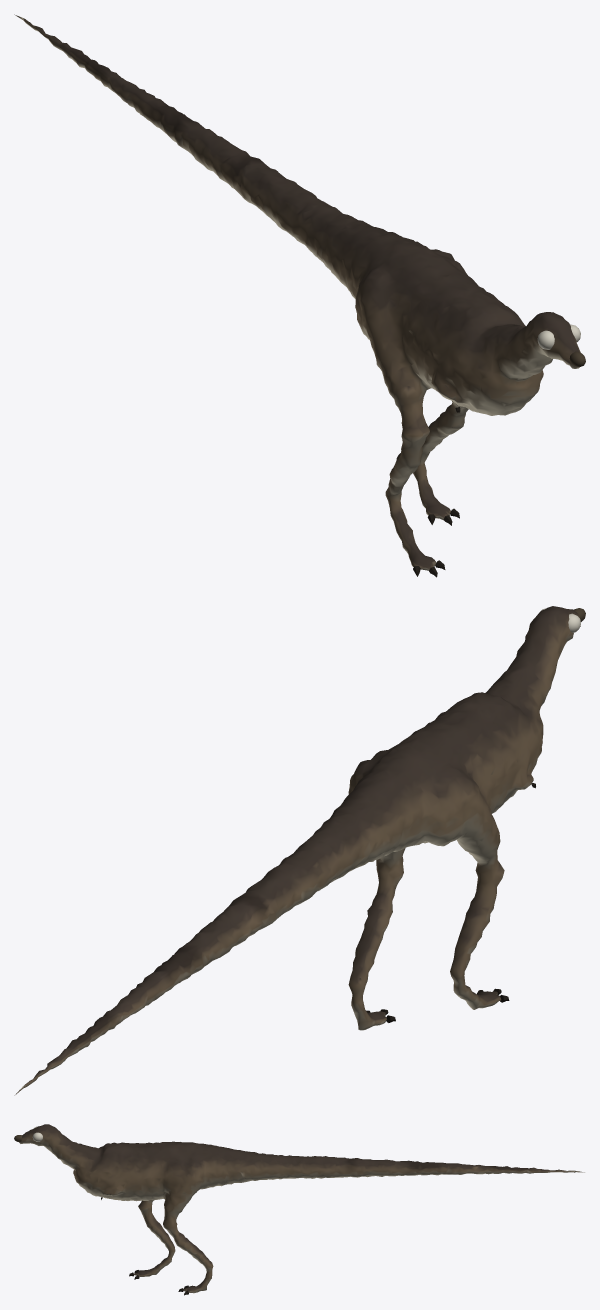
File: Leaellynasaura.fbx
The picture shows the model from 3 angles, top to bottom: view 1: azimuth 30°, elevation 25°; view 2: azimuth 150°, elevation 25°; view 3: azimuth 270°, elevation 25°; orthographic projection. The views are drawn at different scales.
Parts seen in each view (by area): view 1: Leaellynasaura; view 2: Leaellynasaura; view 3: Leaellynasaura.
Boxes of the visible parts, <box> form: Leaellynasaura: <box>14,14,585,577</box>; Leaellynasaura: <box>14,606,585,1095</box>; Leaellynasaura: <box>14,1124,584,1295</box>.
Size of the model in its own units: 0.212 by 0.5662 by 1.85.
